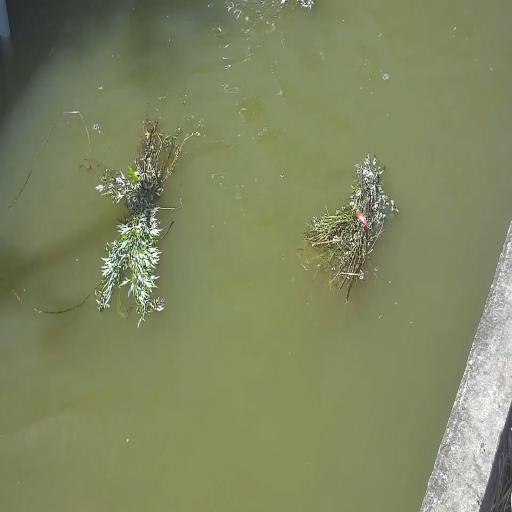twig: (92, 112, 197, 326), (301, 154, 393, 305), (296, 0, 315, 10)
